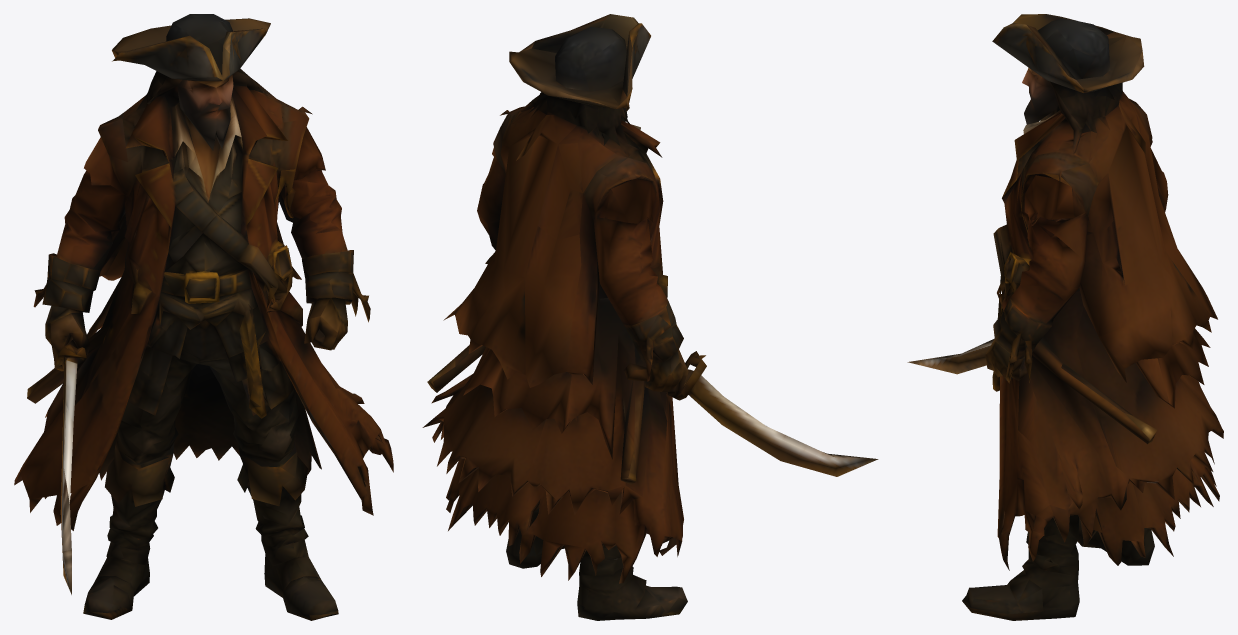
Rendered from demo_conqueror_01.glb.
3 views of the same model, side by side, from view 1: azimuth 30°, elevation 25°; view 2: azimuth 150°, elevation 25°; view 3: azimuth 270°, elevation 25° (orthographic). The views are drawn at different scales.
Visible parts, largest first — view 1: node_0; view 2: node_0; view 3: node_0.
Part boxes in pixels (x1,y1,x2,y2): node_0: [14, 14, 393, 620]; node_0: [422, 14, 878, 620]; node_0: [907, 14, 1223, 620].
Bounding box in the file's own units: 0.7626 × 1.09 × 0.5663.
Materials: 1 (1 with a texture image).
